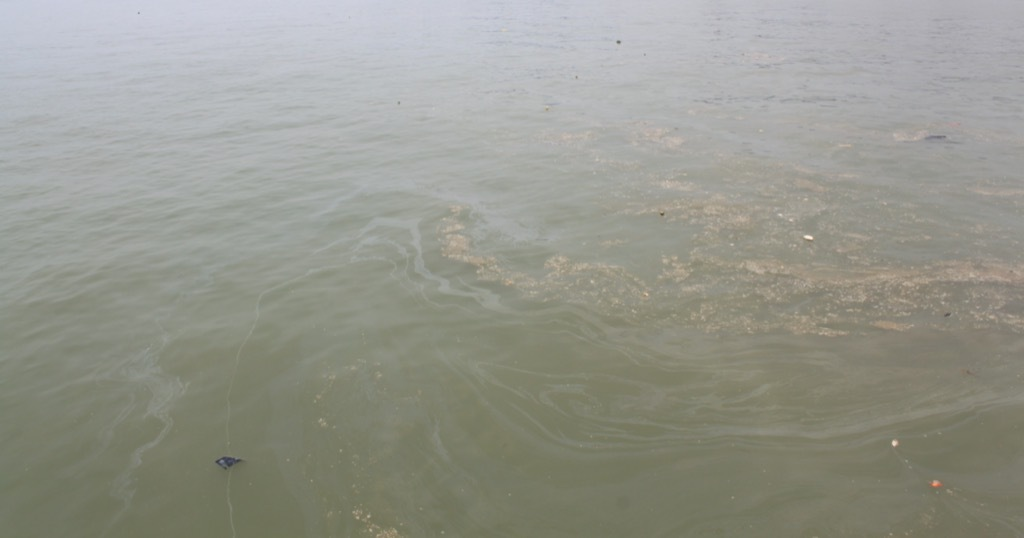organic: (650, 204, 675, 225), (605, 33, 629, 50), (390, 93, 411, 110), (569, 67, 588, 85), (540, 101, 559, 116)
plastic: (206, 446, 261, 480), (877, 435, 918, 460), (918, 471, 956, 497), (796, 228, 824, 248)
